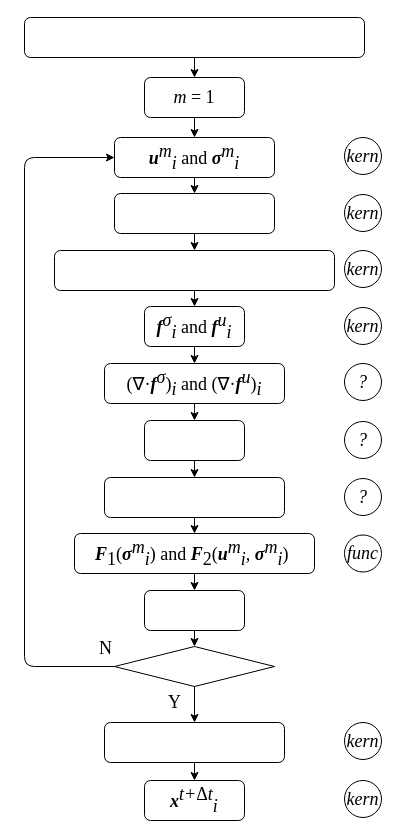
This 399x838 diagram has some shape labels left out. Here are the shapes that lost their labels. From the top down, the centre of each, then its label:
point (194, 37): Given x i , u i , σ i in particle i at time t
point (194, 213): Update boundary
point (194, 270): Check stress state & adapt stress
point (194, 440): g εp i
point (194, 497): ω i and Jaumman σ ~ i
point (194, 610): m += 1
point (194, 666): m ≥ 4?
point (194, 742): u t+ Δ t i and σ t+ Δ t i
